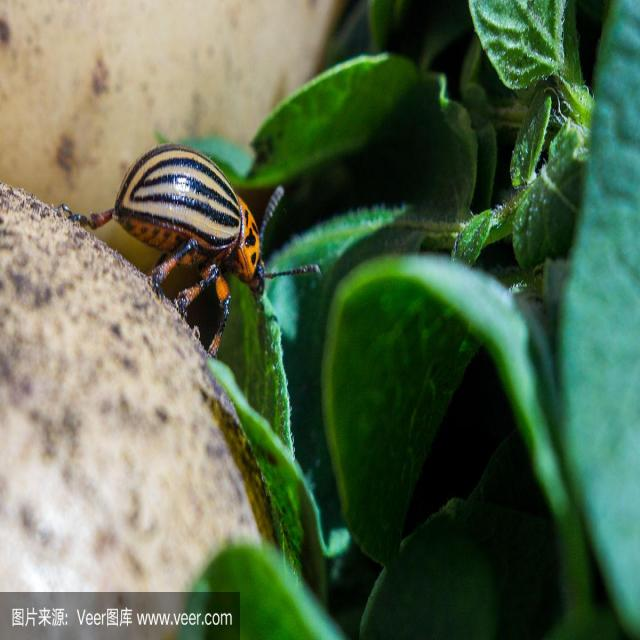ShuCaiHuaBanChong-Grown-: (100, 124, 288, 340)
